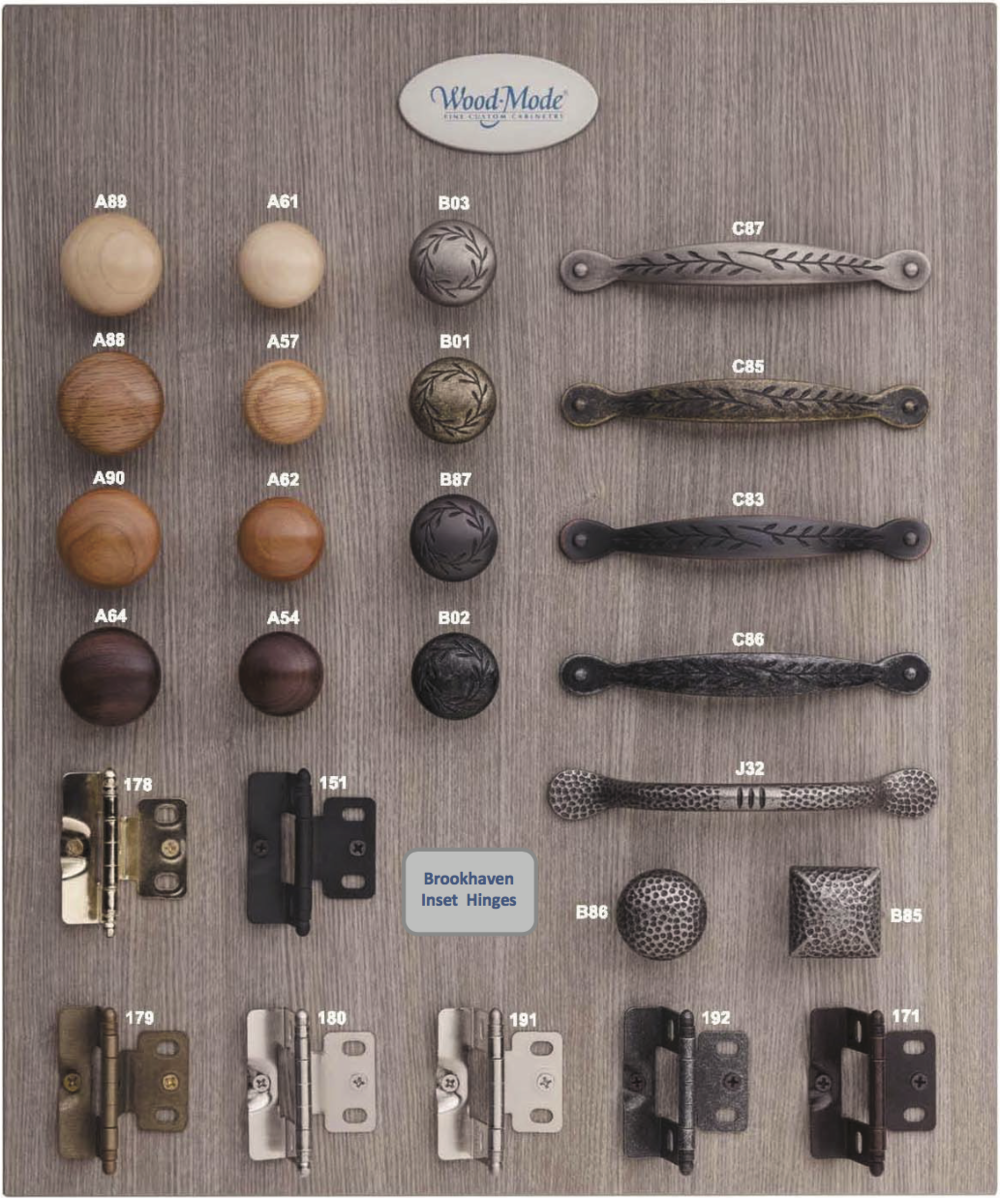handle: (559, 228, 934, 328), (566, 353, 929, 446), (541, 757, 943, 839), (556, 496, 939, 574), (611, 992, 759, 1178), (795, 1000, 935, 1180), (559, 641, 934, 705), (38, 478, 173, 591), (52, 616, 167, 730), (402, 473, 507, 594), (59, 338, 168, 453), (403, 617, 507, 729), (234, 196, 329, 316), (230, 486, 330, 597), (789, 857, 884, 970), (66, 205, 160, 318), (402, 351, 509, 449), (228, 614, 327, 719), (409, 208, 499, 323), (241, 344, 327, 461), (615, 862, 709, 962)
